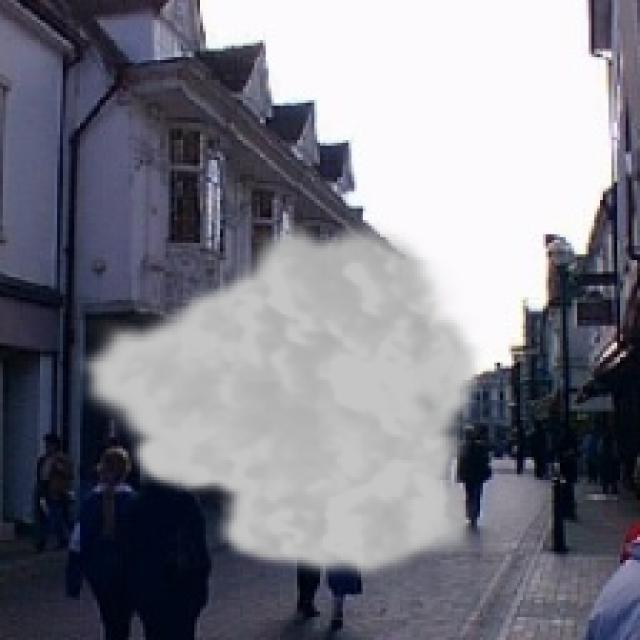smoke: (71, 214, 486, 583)
